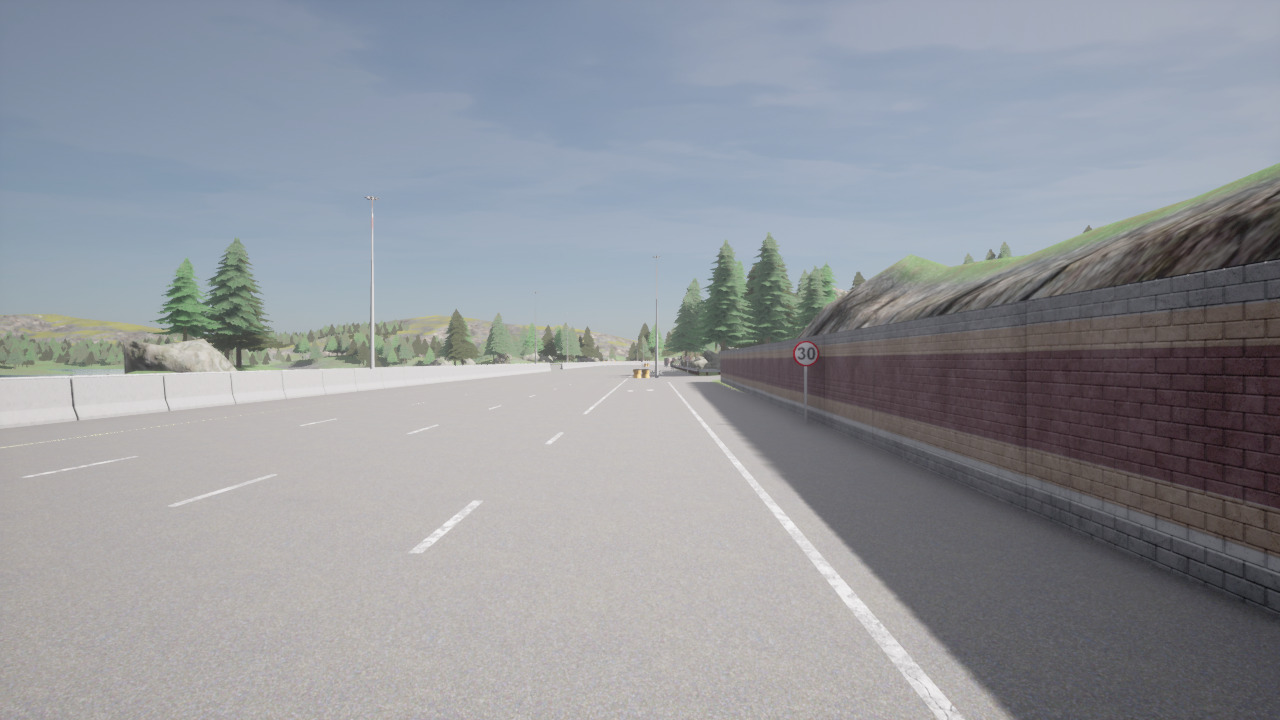sl30: (792, 340, 821, 367)
